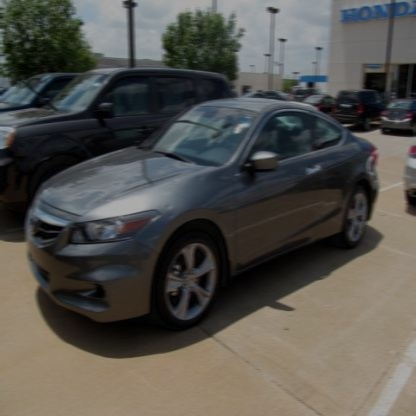Vehicle: (27, 97, 381, 331)
